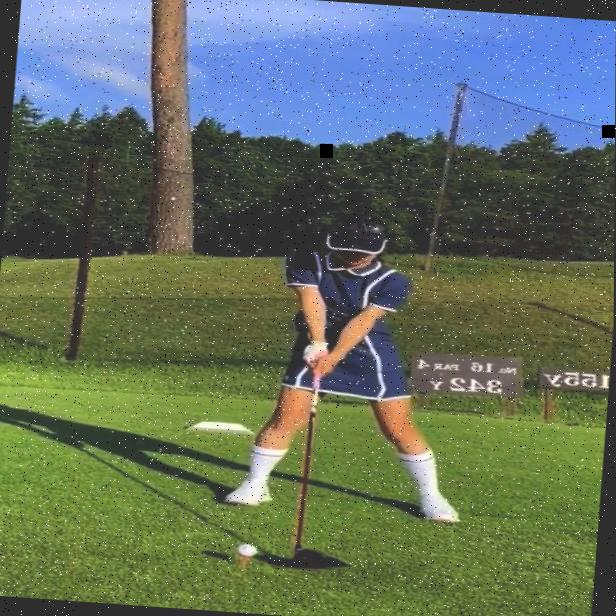ClubHead: (289, 546, 352, 570)
GolfBall: (233, 542, 260, 558)
